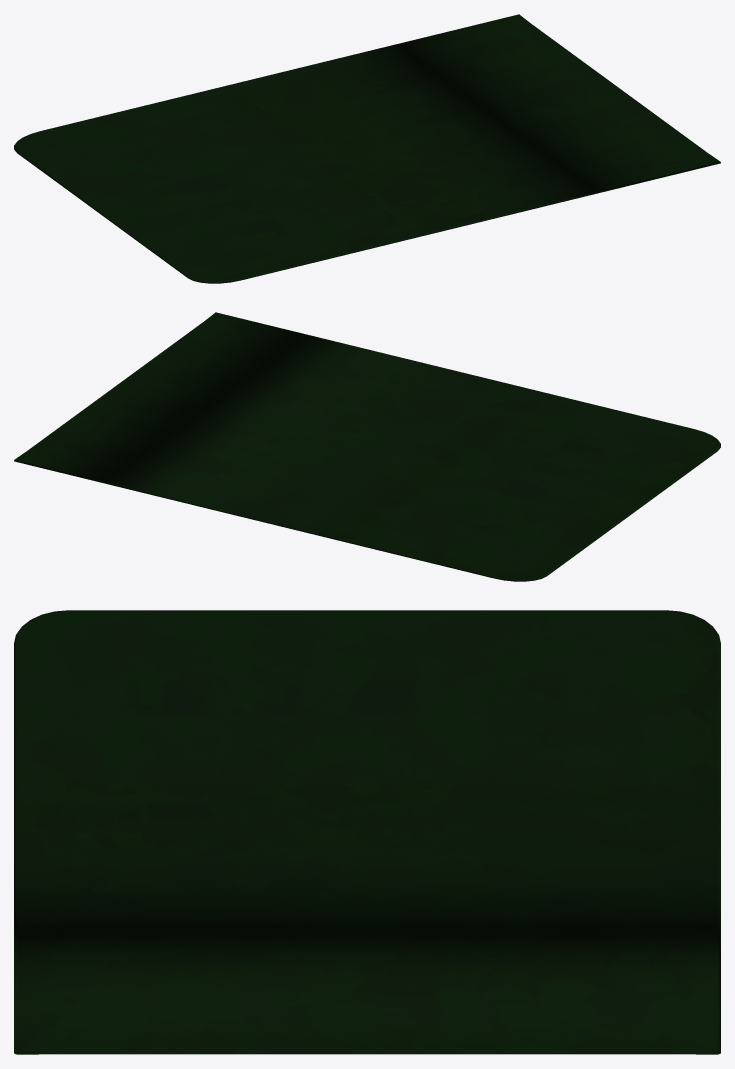
The model's file is sushiseaweedshapetest.fbx.
The picture shows the model from 3 angles, top to bottom: view 1: azimuth 30°, elevation 25°; view 2: azimuth 150°, elevation 25°; view 3: azimuth 270°, elevation 25°; orthographic projection. The views are drawn at different scales.
Visible parts, largest first — view 1: Rollo.MESH.001; view 2: Rollo.MESH.001; view 3: Rollo.MESH.001.
Boxes of the visible parts, x1=… form: Rollo.MESH.001: x1=14, y1=14, x2=720, y2=283; Rollo.MESH.001: x1=14, y1=312, x2=720, y2=581; Rollo.MESH.001: x1=14, y1=610, x2=720, y2=1054.
Bounding box in the file's own units: 406 × 1.61 × 275.
Materials: 1 (1 with a texture image).
